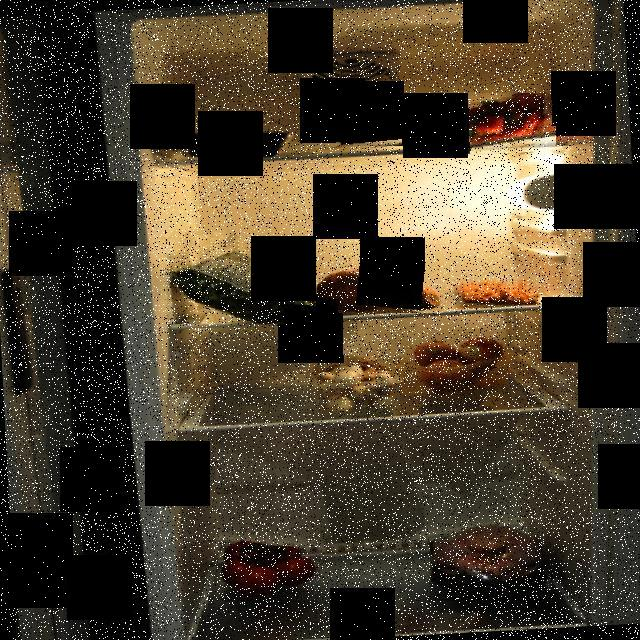cheese: (334, 115, 402, 152)
chicken: (431, 520, 558, 601)
mushrooms: (299, 349, 390, 419)
onion: (406, 333, 505, 394)
shrimp: (456, 278, 540, 306)
spinach: (161, 240, 318, 324)
strawberries: (444, 93, 556, 156)
sweet_potato: (316, 258, 448, 314)
tomato: (220, 531, 324, 601)
